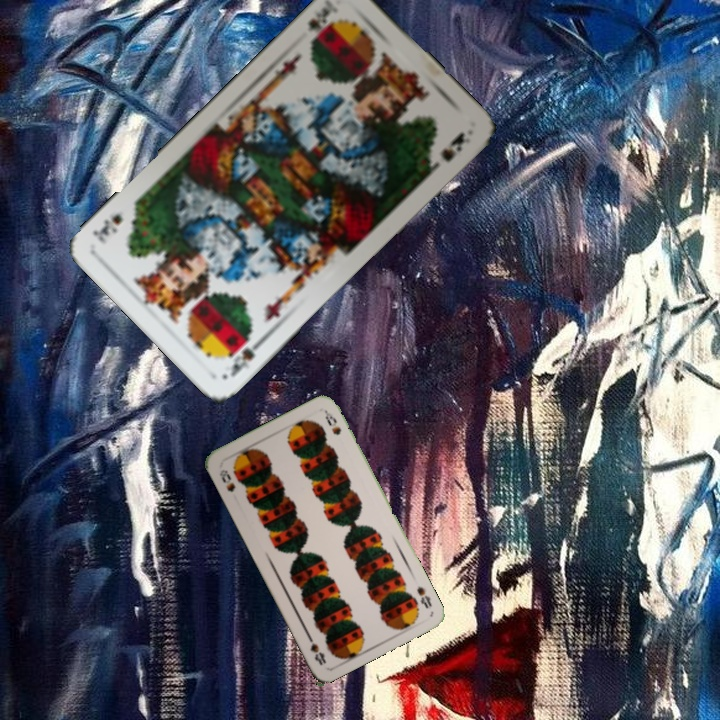S8: (215, 465, 238, 495), (413, 582, 434, 611)
SK: (225, 333, 268, 380), (303, 3, 337, 49)
